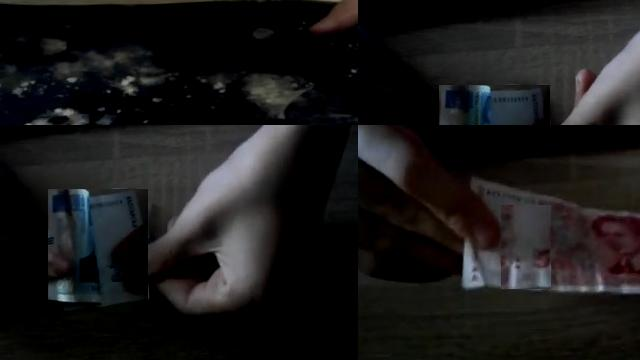20leva: (48, 189, 148, 312), (445, 85, 544, 125)
5leva: (567, 215, 640, 284), (501, 205, 551, 289)
